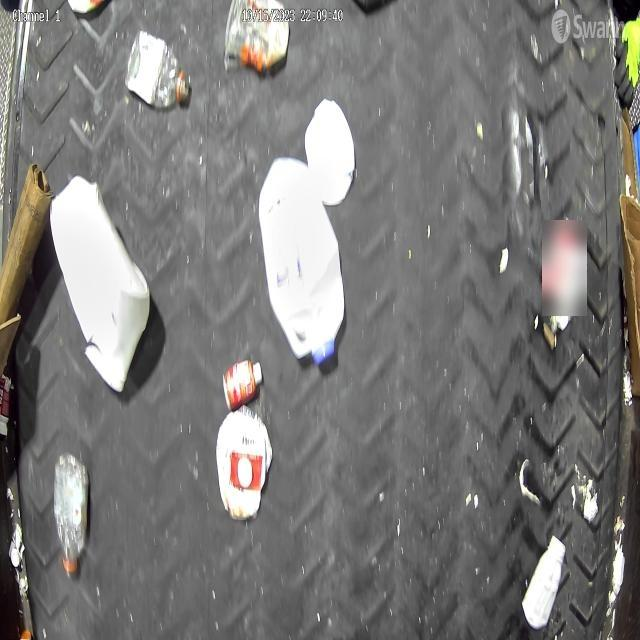milk_jug: (258, 158, 346, 368)
plastic_bottle: (124, 29, 193, 112), (52, 452, 90, 578)
